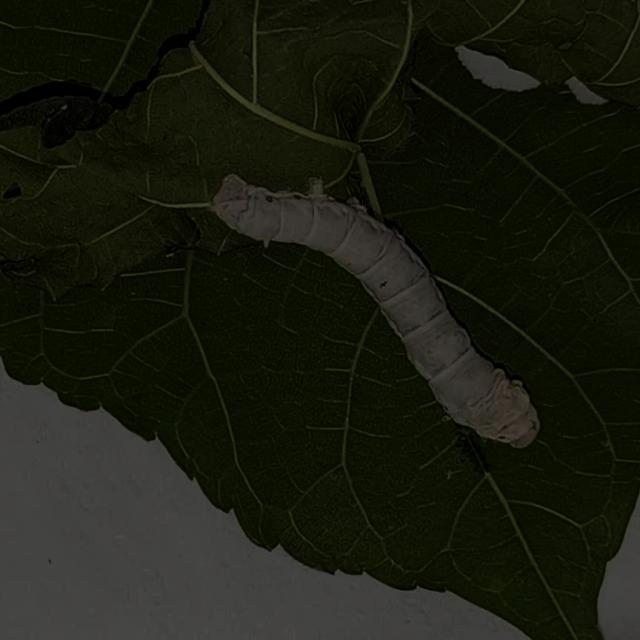Healthy: (188, 141, 562, 469)
